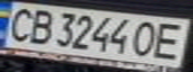2: (69, 11, 97, 52)
3: (48, 9, 78, 48)
4: (109, 16, 136, 55), (90, 14, 115, 53)
B: (21, 7, 57, 46)
C: (0, 4, 39, 43)
E: (148, 20, 190, 61)
O: (127, 18, 163, 58)
